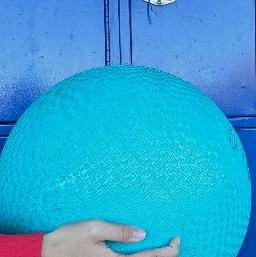algae: (0, 66, 249, 257)
